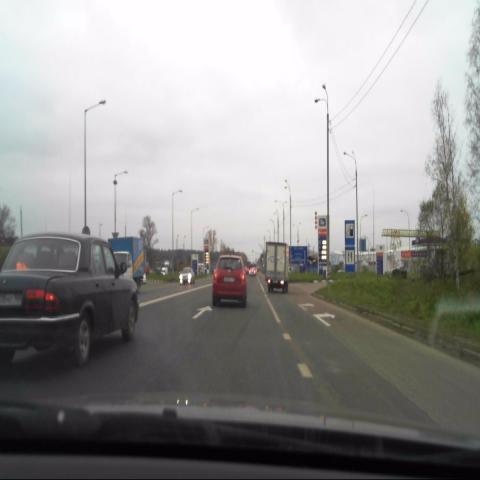7_7: (345, 247, 355, 273)
